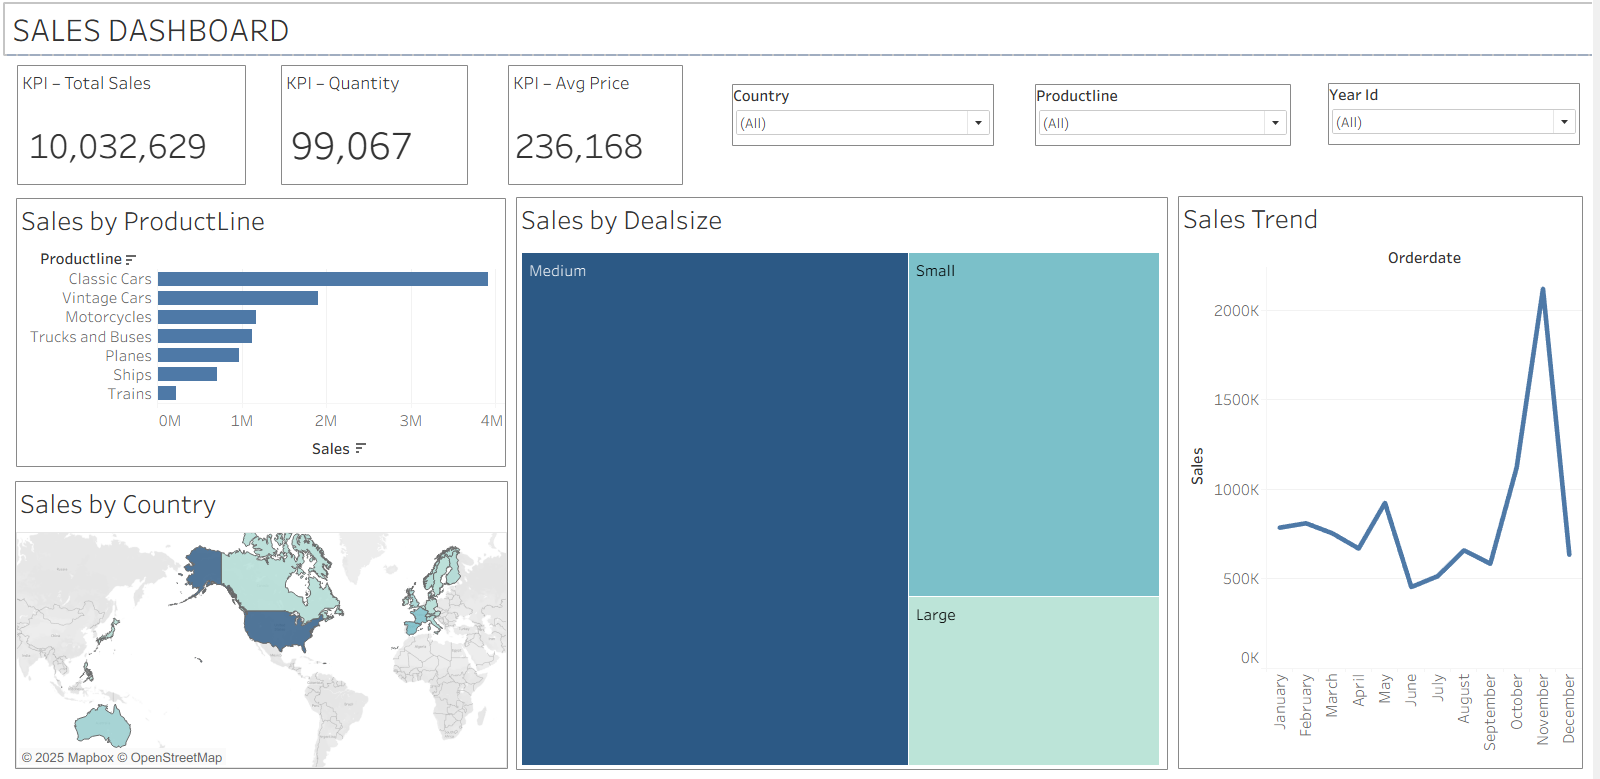

What the dashboard file says about the page in this screenshot:
{"tool":"tableau","page":{"name":"Sales Dashboard","canvas":[1000,1000],"units":"permille","ordinal":0},"visuals":[{"type":"title","box":[4.9,10.2,990.1,63.7]},{"type":"worksheet","title":"KPI – Total Sales","mark":"Text","box":[12.3,87.9,141.4,152.9]},{"type":"worksheet","title":"KPI – Quantity","mark":"Text","box":[175.3,87.9,115.4,152.9]},{"type":"worksheet","title":"KPI – Avg Price","mark":"Text","box":[315.4,87.9,108,152.9]},{"type":"filter","title":"Sales by ProductLine","param":"[federated.0zr6vtm041id5j13g6f990n9cnyr].[none:YEAR_ID:ok]","box":[821.6,110.8,155.6,79]},{"type":"filter","title":"Sales by ProductLine","param":"[federated.0zr6vtm041id5j13g6f990n9cnyr].[none:COUNTRY:nk]","box":[453.7,112.1,161.7,79]},{"type":"filter","title":"Sales by ProductLine","param":"[federated.0zr6vtm041id5j13g6f990n9cnyr].[none:PRODUCTLINE:nk]","box":[640.7,112.1,158,79]},{"type":"worksheet","title":"Sales Trend","mark":"Line","rows":["SALES"],"cols":["ORDERDATE"],"box":[729,254.8,250,729.9]},{"type":"worksheet","title":"Sales by Dealsize","mark":"Automatic","box":[320.4,256.1,402.5,729.9]},{"type":"worksheet","title":"Sales by ProductLine","mark":"Automatic","rows":["PRODUCTLINE"],"cols":["SALES"],"box":[11.7,257.3,302.5,342.7]},{"type":"worksheet","title":"Sales by Country","mark":"Automatic","box":[11.1,617.8,304.3,366.9]}]}

Visuals, with their boxes on the dashboard's canvas, which has no fixed pixel size, in thousandths of its width and height (x1, y1, x2, y2). These are canvas units, not pixel positions in the 1600x779 screenshot, which may show the page scaled, cropped or inside an application window:
title: [5, 10, 995, 74]
"KPI – Total Sales" worksheet (Text marks): [12, 88, 154, 241]
"KPI – Quantity" worksheet (Text marks): [175, 88, 291, 241]
"KPI – Avg Price" worksheet (Text marks): [315, 88, 423, 241]
"Sales by ProductLine" filter: [822, 111, 977, 190]
"Sales by ProductLine" filter: [454, 112, 615, 191]
"Sales by ProductLine" filter: [641, 112, 799, 191]
"Sales Trend" worksheet (Line marks): [729, 255, 979, 985]
"Sales by Dealsize" worksheet: [320, 256, 723, 986]
"Sales by ProductLine" worksheet: [12, 257, 314, 600]
"Sales by Country" worksheet: [11, 618, 315, 985]
